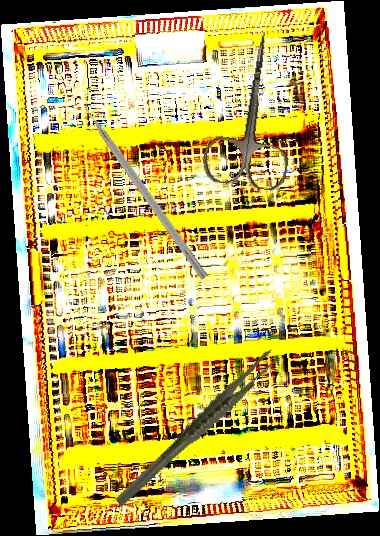Chopper: (76, 89, 218, 281)
Iris Scissors: (200, 25, 308, 193)
Tissue Forceps: (92, 347, 301, 509)
